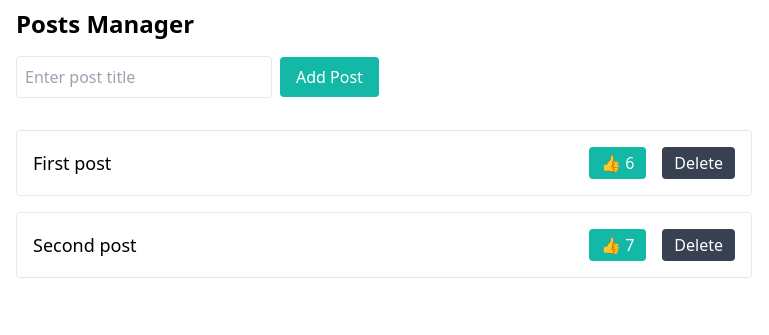
Test: App Component › displays error message when updating post fails
Click the button "👍 6" at (618, 163), box [589,147,646,179]
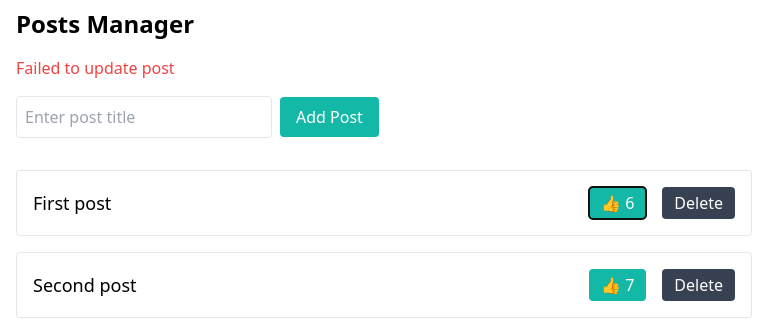
Expected: the text "Failed to update post" is shown, [16,57,175,79]
